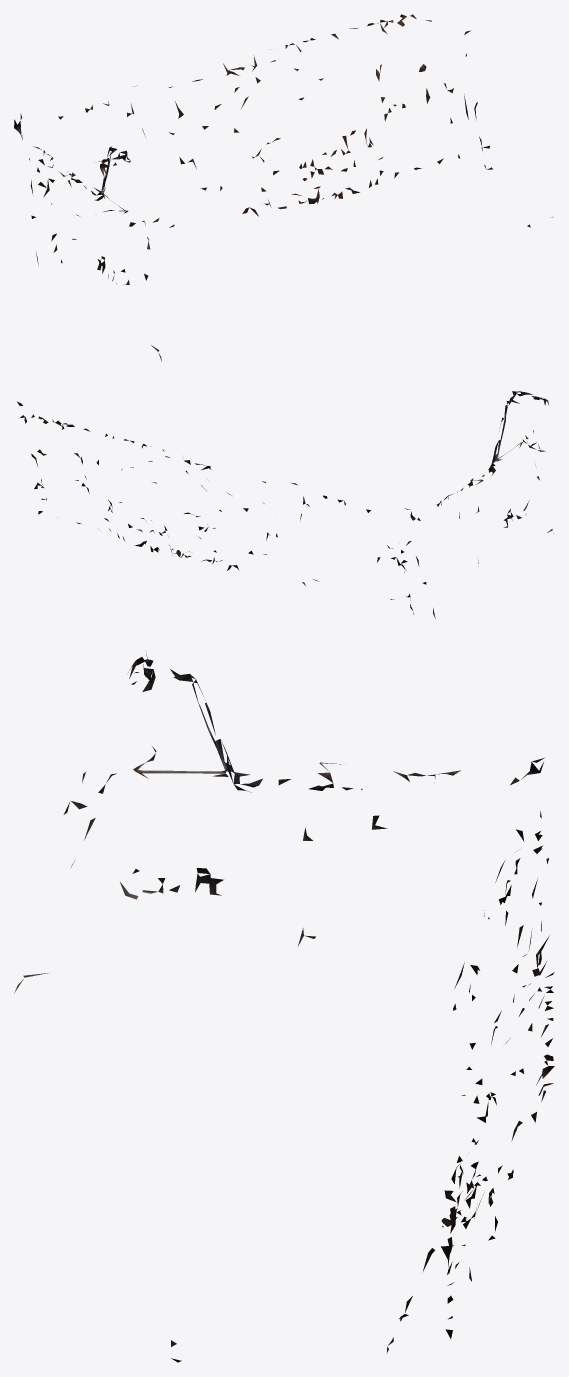
3 views of the same model, one above another, from view 1: azimuth 30°, elevation 25°; view 2: azimuth 150°, elevation 25°; view 3: azimuth 270°, elevation 25° (orthographic). The views are drawn at different scales.
Bounding box in the file's own units: 12.4 × 4.6 × 6.99.
Materials: 1 (1 with a texture image).
